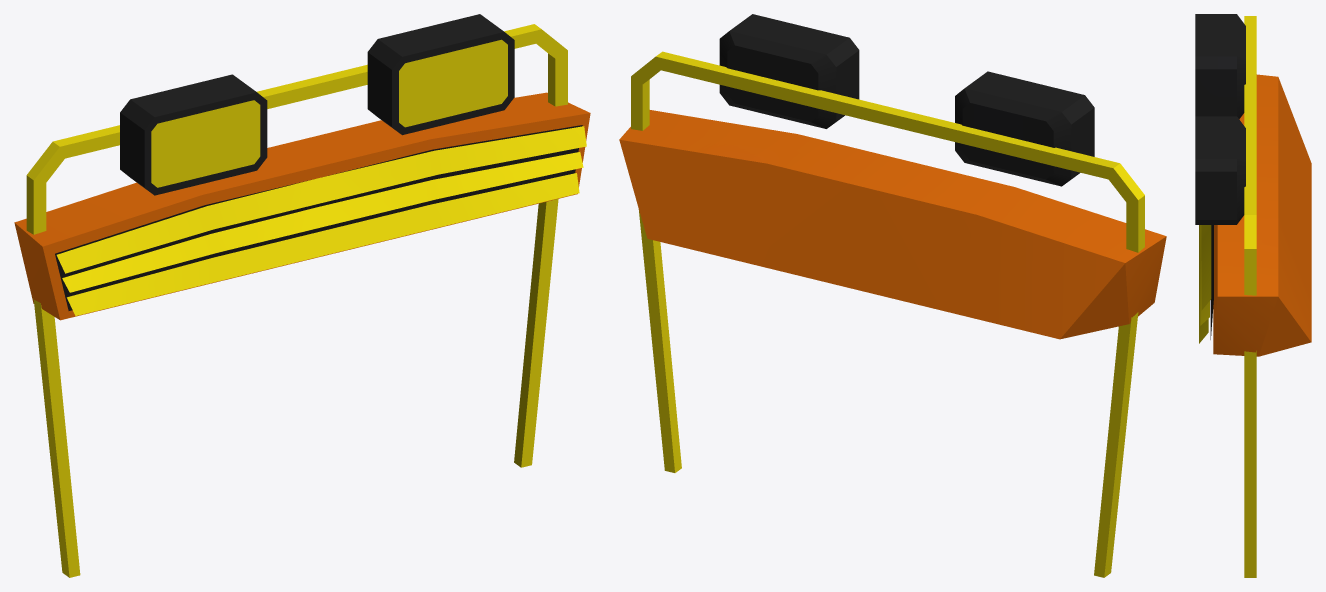
File: TankSpoiler00R01.gltf
3 views of the same model, side by side, from view 1: azimuth 30°, elevation 25°; view 2: azimuth 150°, elevation 25°; view 3: azimuth 270°, elevation 25° (orthographic). The views are drawn at different scales.
Visible parts, largest first — view 1: TankSpoiler00R01; view 2: TankSpoiler00R01; view 3: TankSpoiler00R01.
Part boxes in pixels (left/top/right/bottom): TankSpoiler00R01: left=14, top=14, right=590, bottom=577; TankSpoiler00R01: left=619, top=14, right=1166, bottom=577; TankSpoiler00R01: left=1195, top=14, right=1311, bottom=577.
Size of the model in its own units: 0.1316 by 0.1074 by 0.0285.
